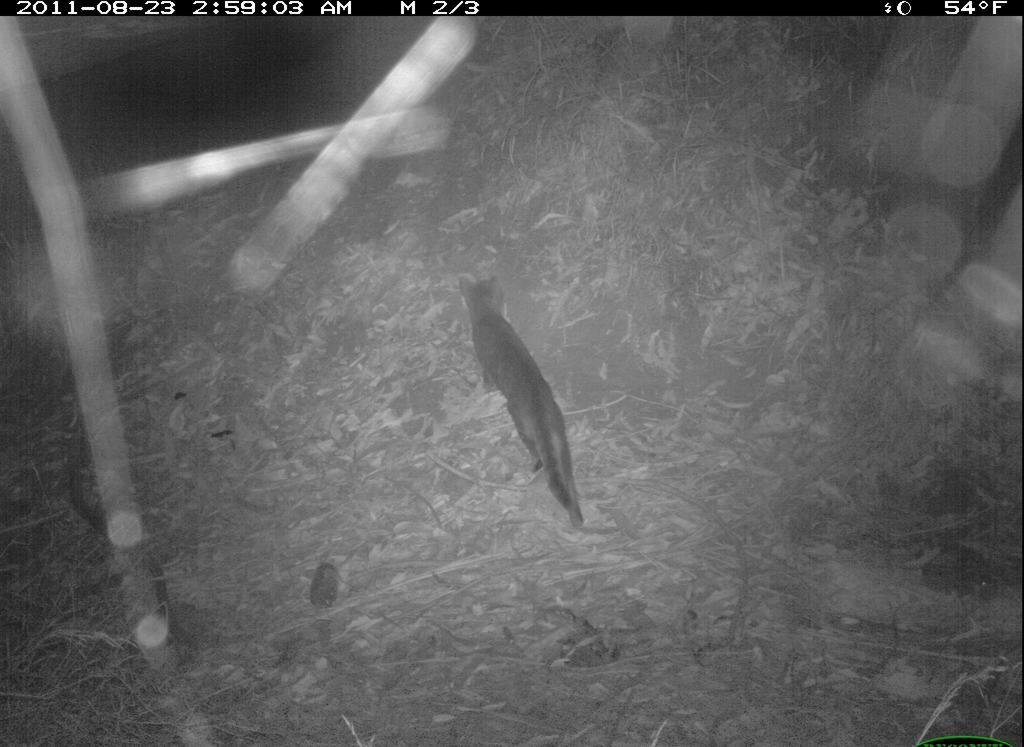cat: (452, 272, 603, 536)
